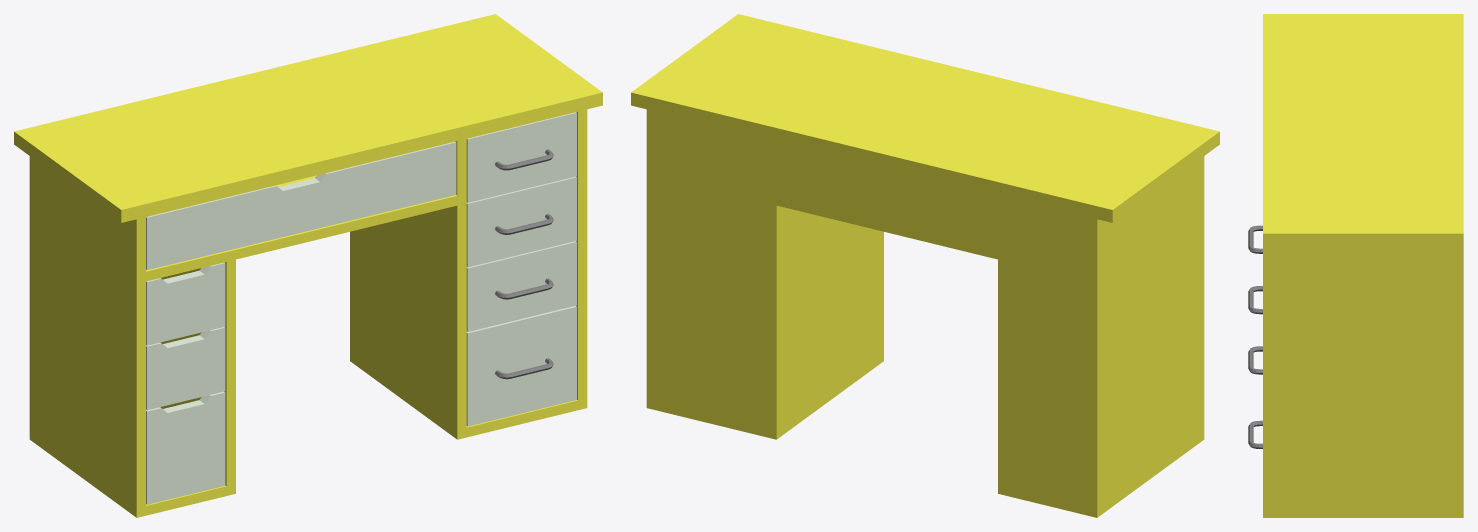
The model's file is Table_12b.fbx.
The picture shows the model from 3 angles, left to right: view 1: azimuth 30°, elevation 25°; view 2: azimuth 150°, elevation 25°; view 3: azimuth 270°, elevation 25°; orthographic projection. The views are drawn at different scales.
Visible parts, largest first — view 1: Table_12b; view 2: Table_12b; view 3: Table_12b.
Part boxes in pixels (bbox=[...]): Table_12b: bbox=[14, 14, 602, 517]; Table_12b: bbox=[631, 14, 1219, 517]; Table_12b: bbox=[1248, 14, 1463, 517].
Size of the model in its own units: 1.55 by 0.9614 by 0.6437.
